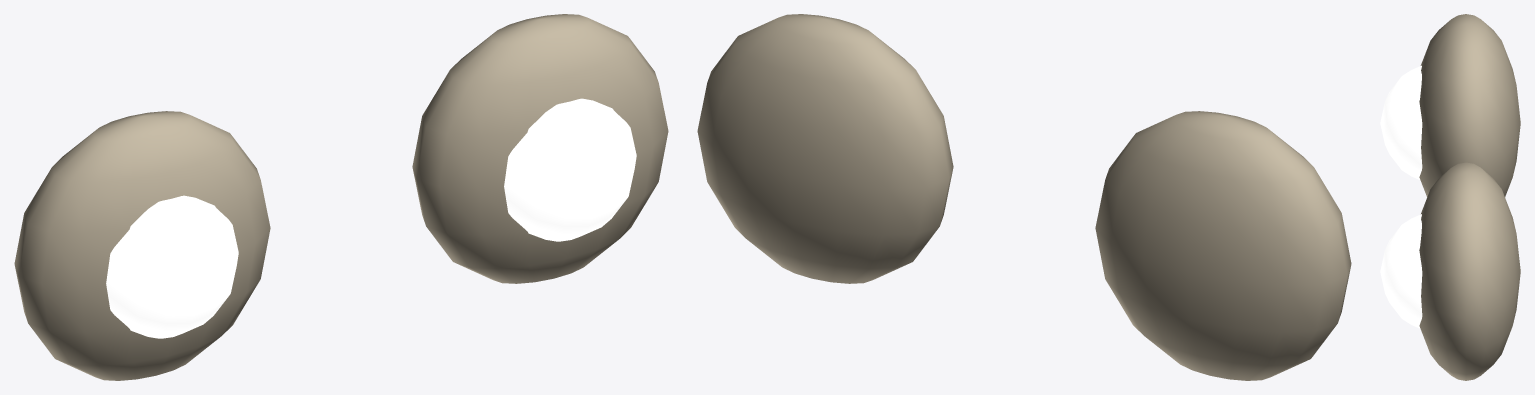
The model's file is far-eyes.glb.
3 views of the same model, side by side, from view 1: azimuth 30°, elevation 25°; view 2: azimuth 150°, elevation 25°; view 3: azimuth 270°, elevation 25° (orthographic). The views are drawn at different scales.
Parts seen in each view (by area): view 1: ring_-1, ring_1, eye_1, eye_-1; view 2: ring_1, ring_-1; view 3: ring_1, ring_-1, eye_1, eye_-1.
Boxes of the visible parts, <box> form: ring_-1: <box>14,111,270,380</box>; ring_1: <box>412,14,668,283</box>; eye_1: <box>504,98,636,241</box>; eye_-1: <box>106,195,238,338</box>; ring_1: <box>697,14,953,283</box>; ring_-1: <box>1095,111,1351,380</box>; ring_1: <box>1419,162,1520,380</box>; ring_-1: <box>1419,14,1520,196</box>; eye_1: <box>1380,214,1422,328</box>; eye_-1: <box>1380,65,1422,179</box>.
Size of the model in its own units: 0.146 by 0.056 by 0.036.
